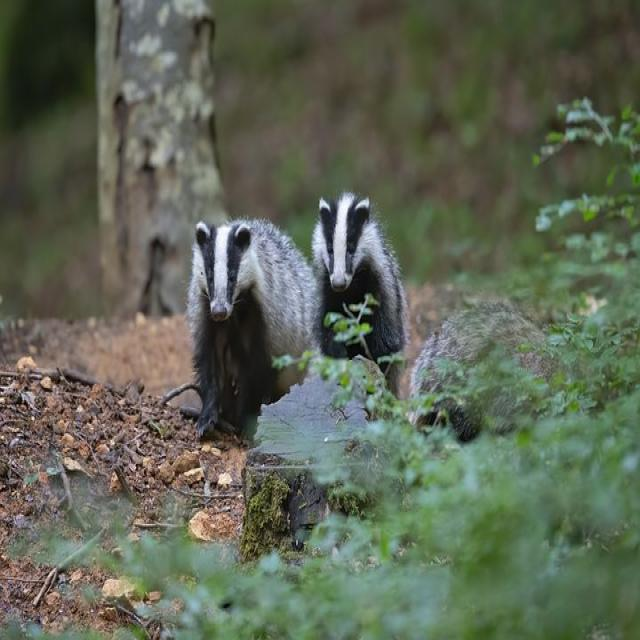badger: (179, 209, 317, 442), (305, 196, 411, 377)
